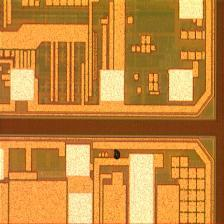PARTICLE: (112, 149, 124, 161)
